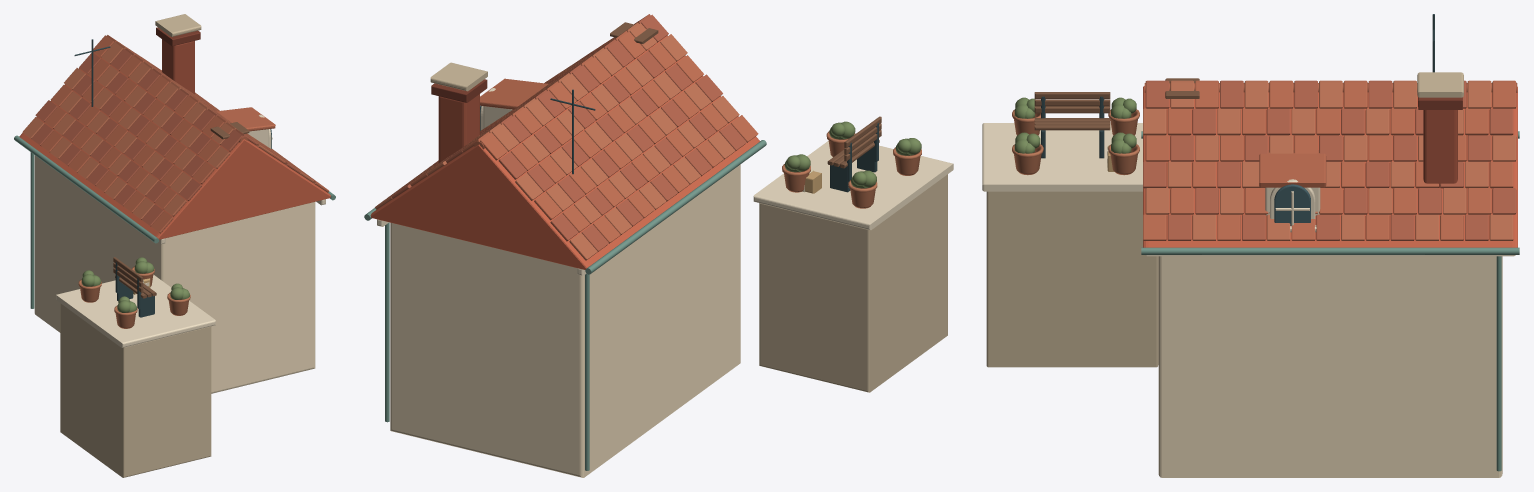
File: rooftop.glb
3 views of the same model, side by side, from view 1: azimuth 30°, elevation 25°; view 2: azimuth 150°, elevation 25°; view 3: azimuth 270°, elevation 25° (orthographic). The views are drawn at different scales.
Visible parts, largest first — view 1: part_0_5, part_0; view 2: part_0, part_0_5; view 3: part_0_5, part_0.
Boxes of the visible parts, <box> form: part_0_5: <box>14,14,335,477</box>; part_0: <box>19,27,330,393</box>; part_0: <box>370,35,759,477</box>; part_0_5: <box>364,14,953,470</box>; part_0_5: <box>982,14,1519,471</box>; part_0: <box>1143,86,1517,477</box>.
Bounding box in the file's own units: 12.33 × 12.3 × 15.62.
